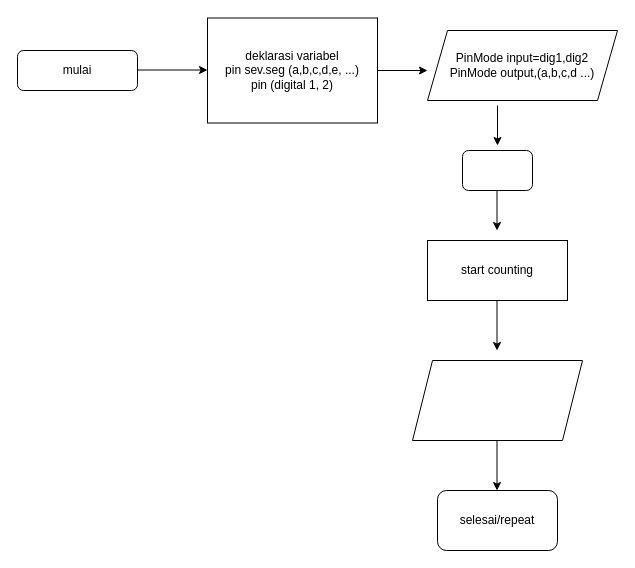
This 635x568 diagram has some shape labels left out. The shapes that lost their labels are listed below. From the top down, each one's centre as x and y in pixels, then its label:
At (x=497, y=170): "start loop".
At (x=497, y=400): "output number0(); number1(); number2(); dst...".
